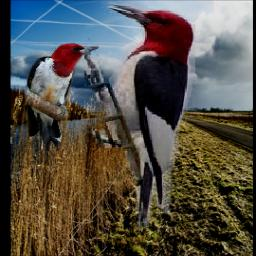Woodpecker: (85, 3, 196, 230), (25, 42, 99, 152)
